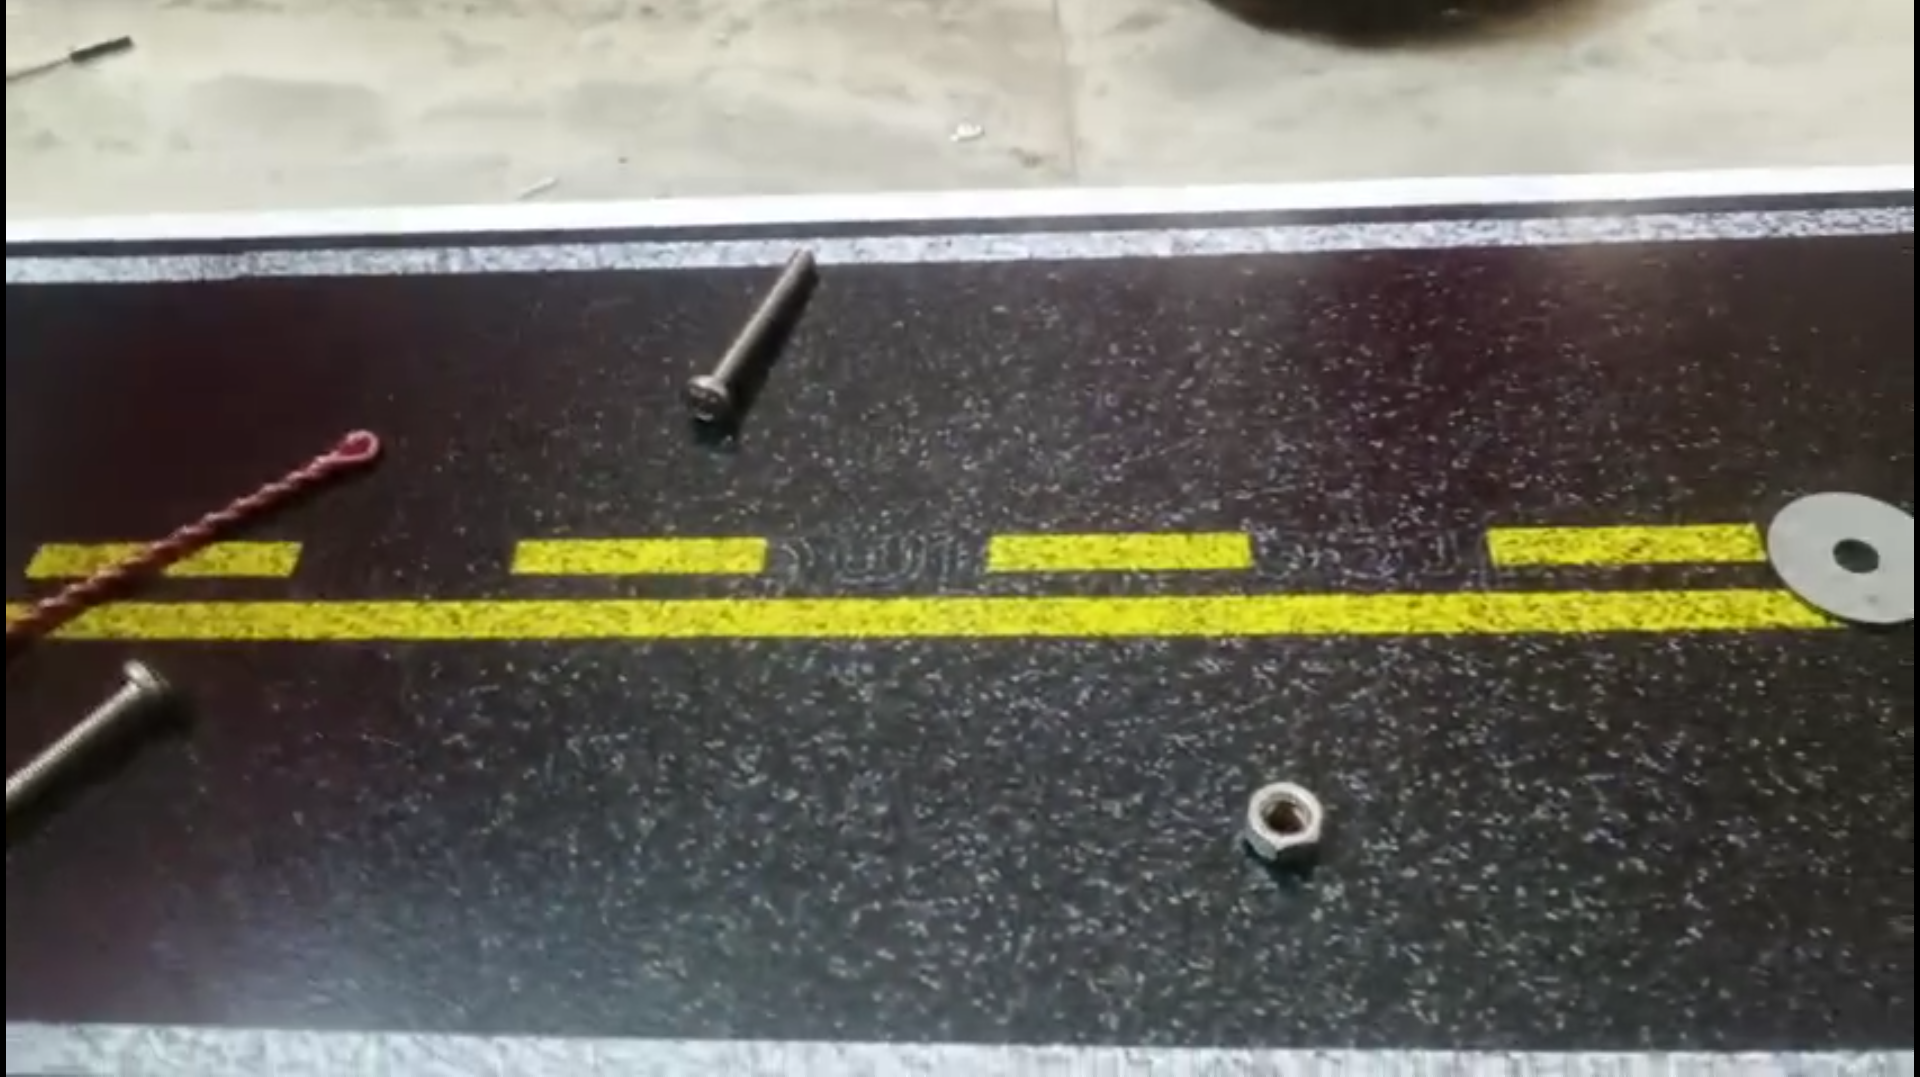metal: (3, 410, 378, 639), (1, 654, 169, 842), (1768, 457, 1920, 637), (673, 245, 819, 423), (1245, 778, 1328, 871)
